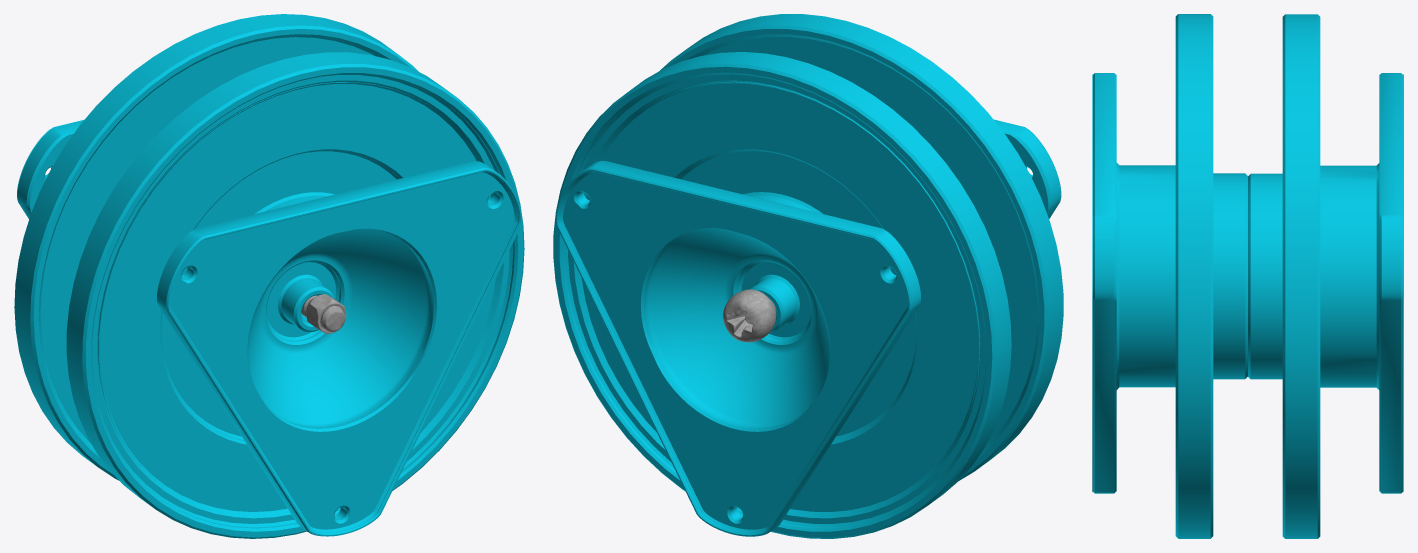
The model's file is assembled.glb.
3 renders of one model, left to right at view 1: azimuth 30°, elevation 25°; view 2: azimuth 150°, elevation 25°; view 3: azimuth 270°, elevation 25°, orthographic. The views are drawn at different scales.
Parts seen in each view (by area): view 1: Cylinder.001, Cylinder.005, Hex Nut.002, pan head screw (bolt).002; view 2: Cylinder.005, Cylinder.001, pan head screw (bolt).002; view 3: Cylinder.001, Cylinder.005.
Part boxes in pixels (x1,y1,x2,y2): Cylinder.001: (66,52,524,538); Cylinder.005: (14,14,418,480); Hex Nut.002: (306,294,346,333); pan head screw (bolt).002: (301,295,345,331); Cylinder.005: (553,52,1011,538); Cylinder.001: (660,14,1063,480); pan head screw (bolt).002: (723,289,776,342); Cylinder.001: (1092,14,1247,538); Cylinder.005: (1248,14,1403,538).
Bounding box in the file's own units: 1.79 × 1.79 × 1.07.
Materials: 3 (2 with a texture image).
